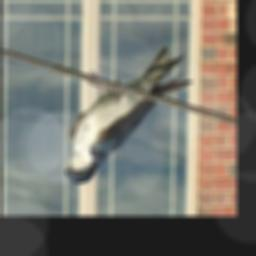Swallow: (64, 46, 195, 186)
